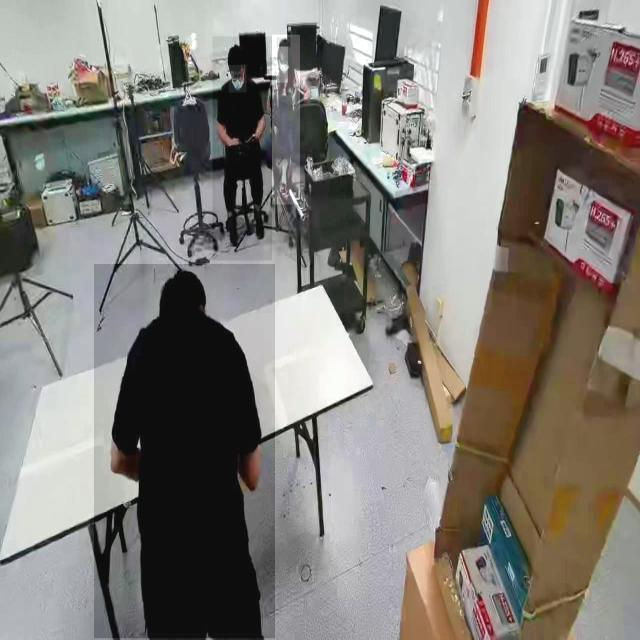face_mask: (229, 65, 247, 93), (276, 46, 288, 84)
hand_noglove: (244, 132, 260, 146), (225, 135, 242, 148)
head_nohelmet: (160, 268, 205, 298), (227, 44, 244, 64), (277, 37, 291, 48)
person: (94, 264, 276, 639), (212, 36, 272, 262), (272, 35, 300, 205)
shoes: (225, 212, 241, 253), (249, 209, 267, 244)
